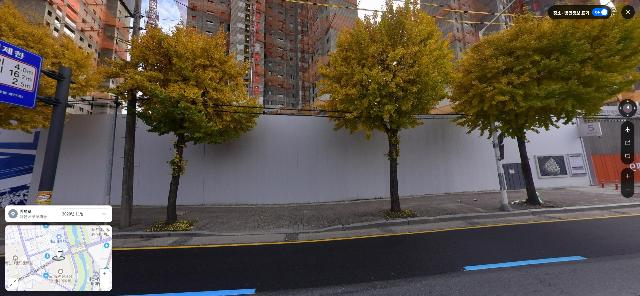ginkgo: (448, 0, 640, 206), (91, 17, 264, 224), (314, 0, 460, 213)
